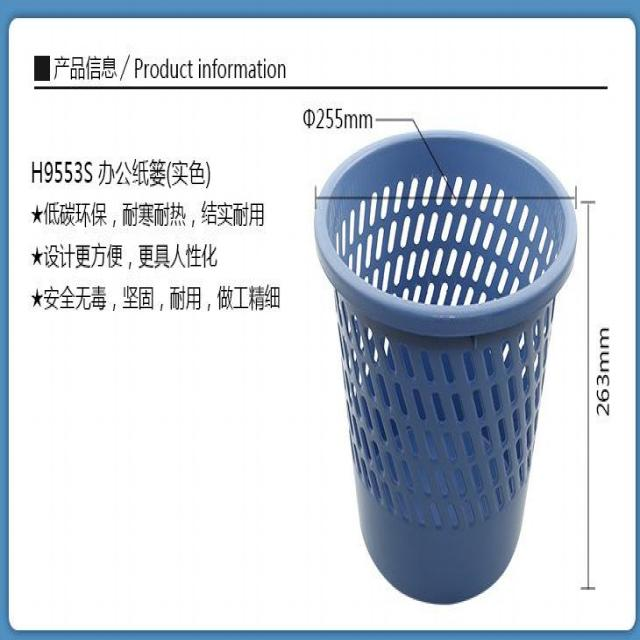Dustbin: (307, 124, 584, 609)
